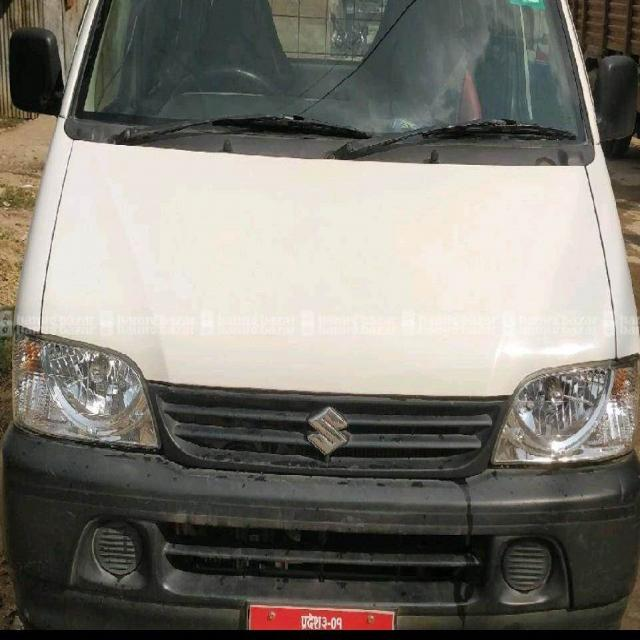License-plate: (245, 606, 398, 640)
